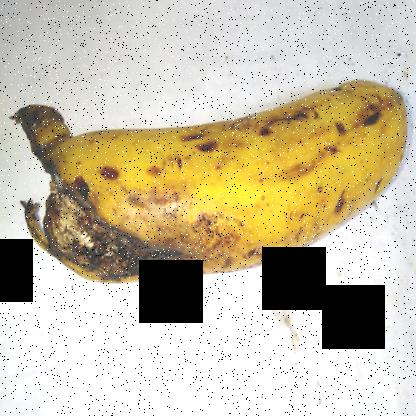ripe: (158, 53, 413, 276)
rotten: (12, 129, 199, 291)
